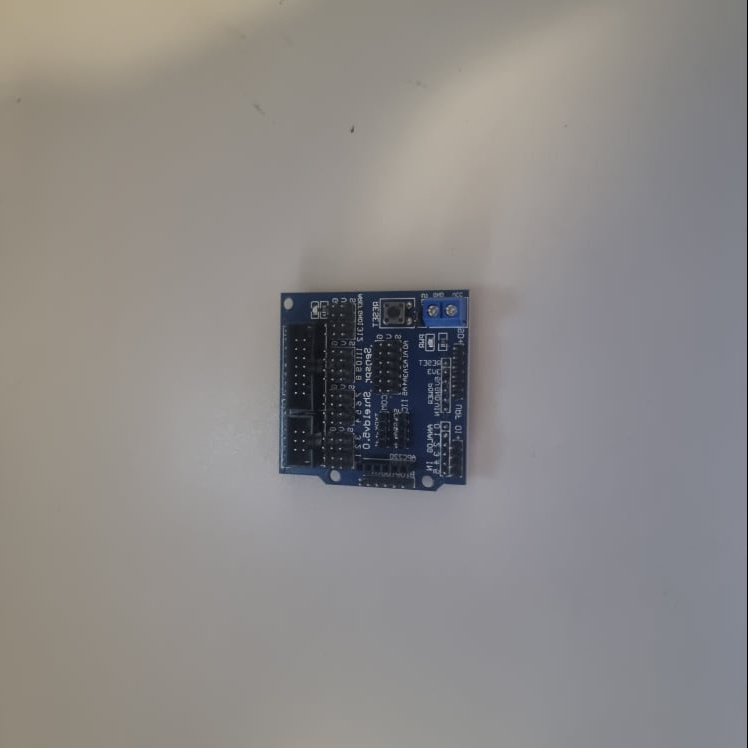5V EXPANSION: (278, 290, 473, 497)
